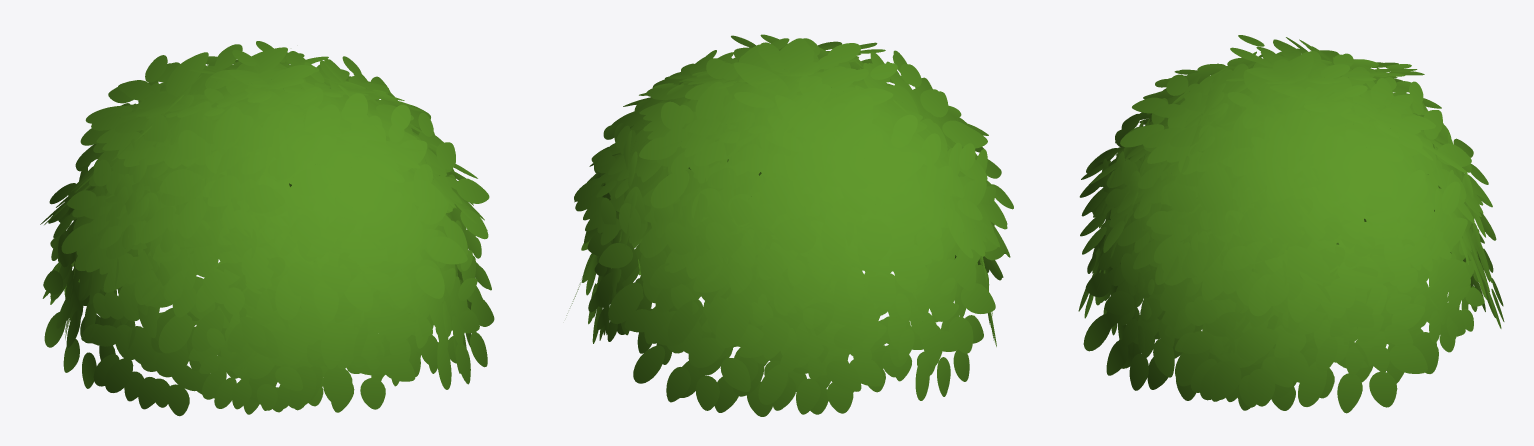
The model's file is Bush.gltf.
3 renders of one model, left to right at view 1: azimuth 30°, elevation 25°; view 2: azimuth 150°, elevation 25°; view 3: azimuth 270°, elevation 25°, orthographic. The views are drawn at different scales.
Parts seen in each view (by area): view 1: Bush; view 2: Bush; view 3: Bush.
Part boxes in pixels (x1,y1,x2,y2): Bush: (40, 41, 494, 416); Bush: (566, 34, 1013, 416); Bush: (1078, 35, 1504, 413).
Size of the model in its own units: 1.09 by 0.6916 by 1.05.
1 material, 1 textured.
